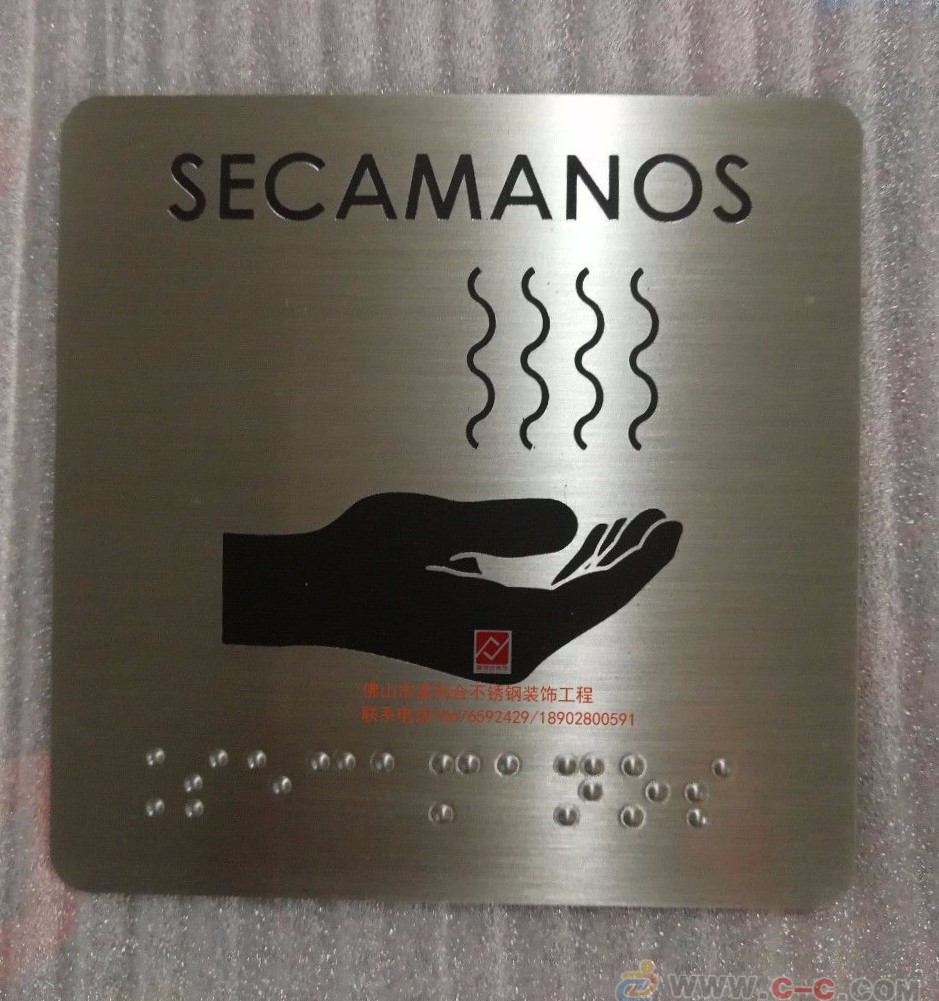Braille: (617, 751, 671, 833), (428, 749, 483, 828), (683, 755, 738, 833), (552, 753, 604, 831), (495, 751, 545, 829), (368, 749, 417, 824), (119, 747, 169, 819), (183, 749, 232, 822), (247, 749, 294, 824), (308, 749, 355, 823)
